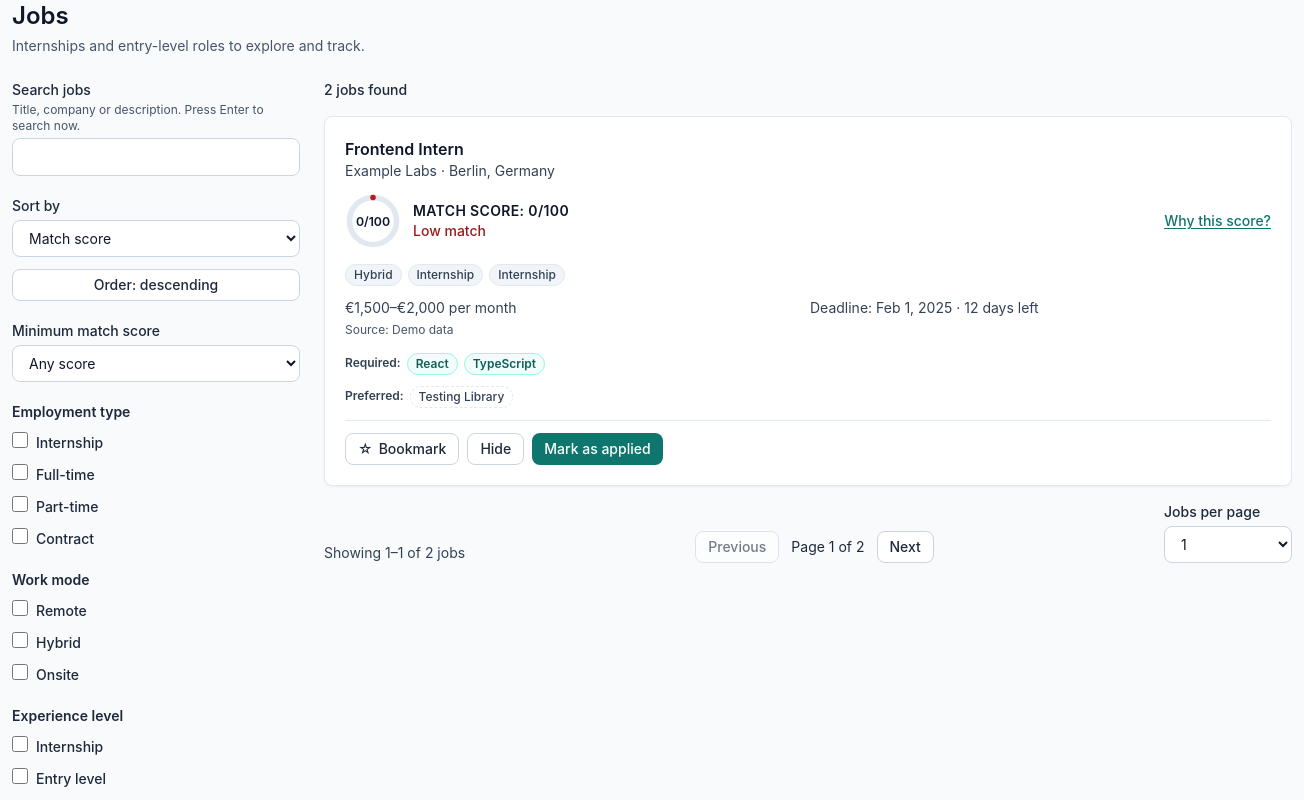
Test case: JobsPage › requests the next page when Next is clicked
This screenshot has width=1304, height=800.
Check: the element "Frontend Intern" is shown, box [324,116,1292,486]
Check: the navigation bar named "Pagination" shows "Page 1 of 2", box [695,531,934,563]
Click the button "Next" at (905, 547), box [876,531,934,563]
(page scrolled)
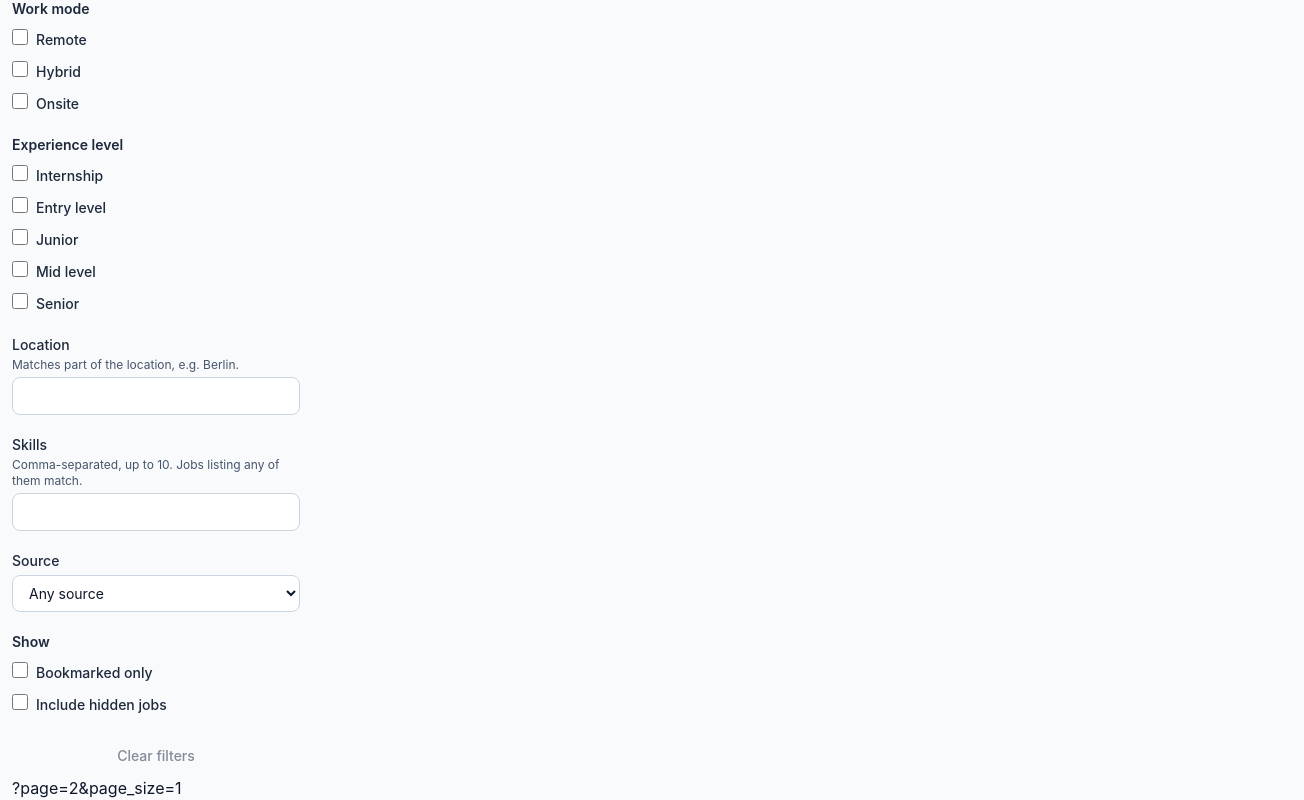
Check: the text named "Current search" reads "?page=2&page_size=1", box [12,778,182,798]
